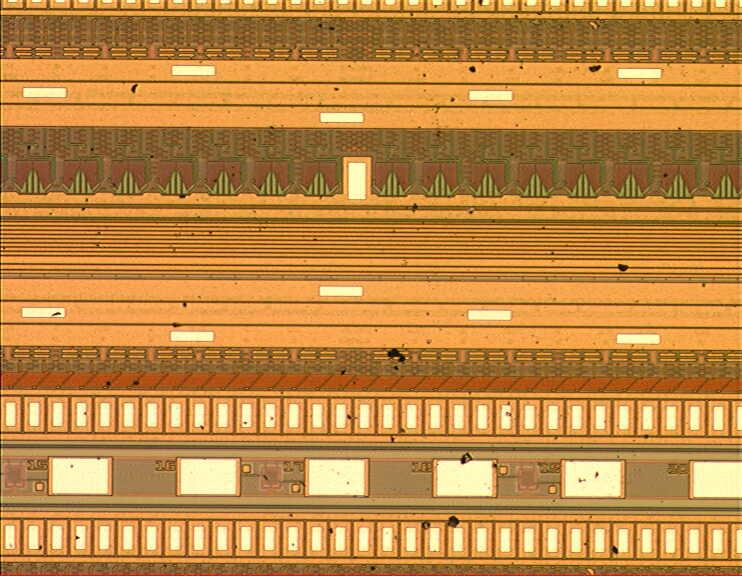PO CONTAMINATION: (5, 7, 742, 575)
